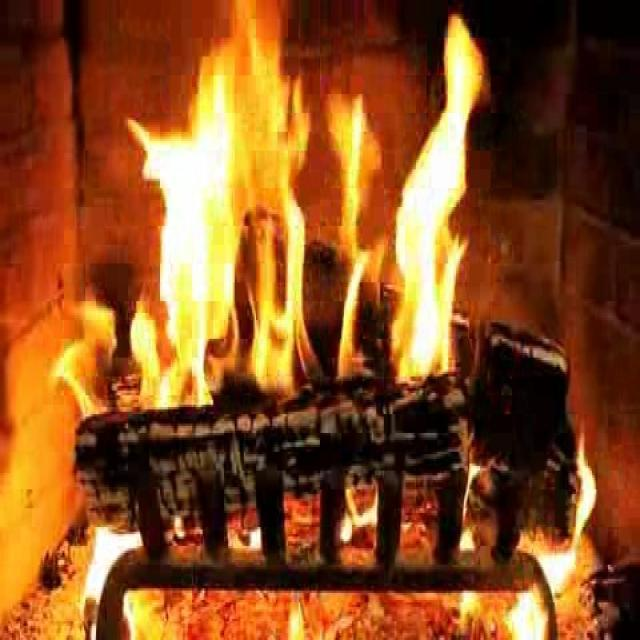Fire: (134, 2, 486, 388)
